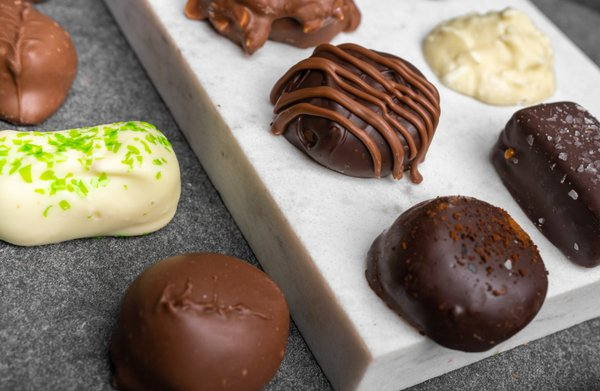sandwich: (101, 0, 381, 387)
